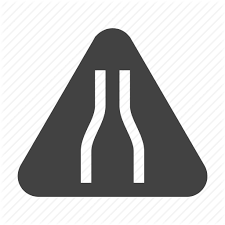Narrow_road: (16, 27, 209, 198)
